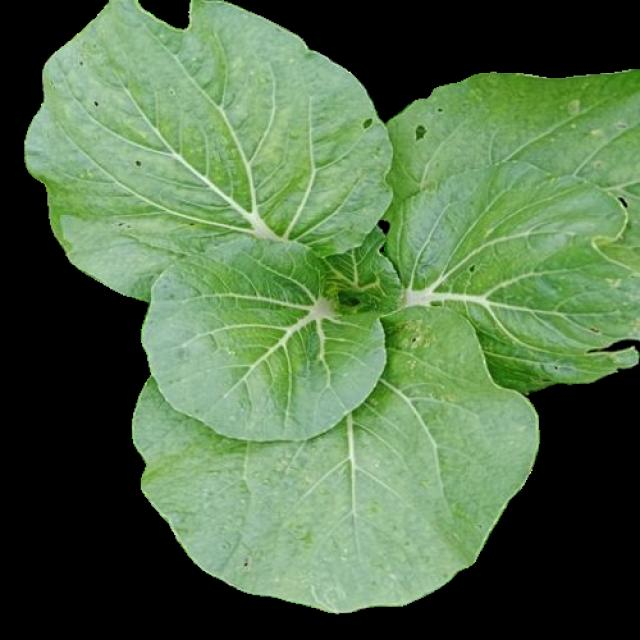mature: (22, 2, 640, 610)
unhealthy: (134, 307, 540, 607), (28, 1, 388, 292), (386, 64, 640, 389)
